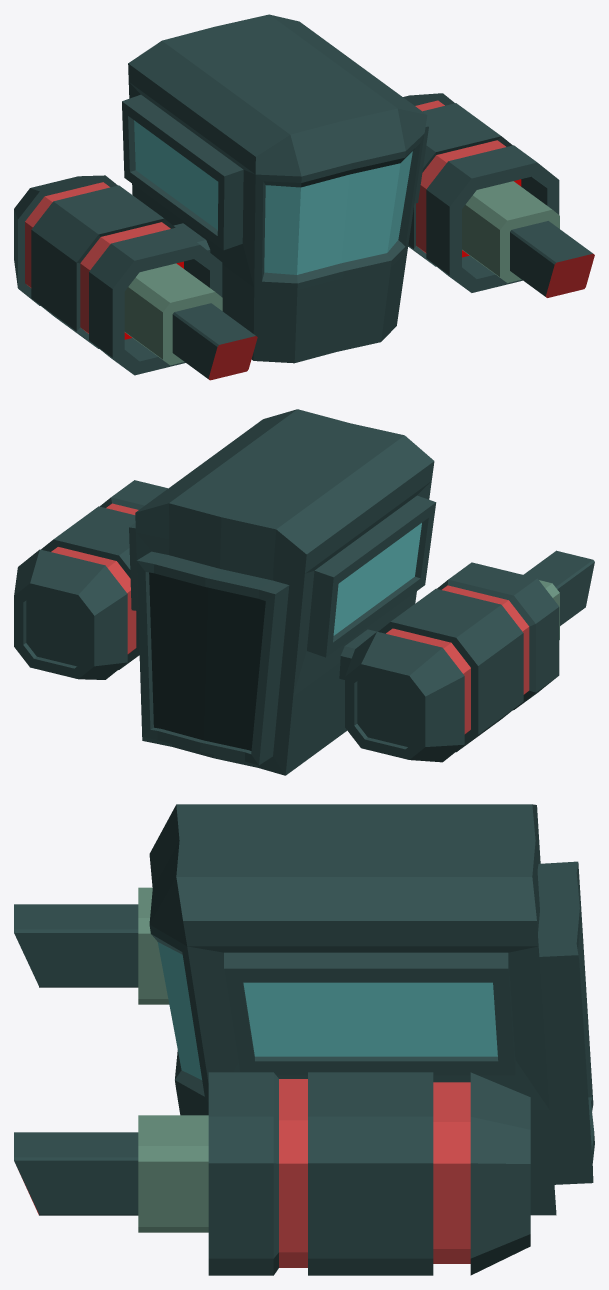
File: EMCabeza.obj
3 views of the same model, one above another, from view 1: azimuth 30°, elevation 25°; view 2: azimuth 150°, elevation 25°; view 3: azimuth 270°, elevation 25° (orthographic). The views are drawn at different scales.
Parts seen in each view (by area): view 1: Cube.028, Cube.034; view 2: Cube.028, Cube.034, Cube.035; view 3: Cube.028, Cube.034.
Boxes of the visible parts, x1,y1,x2,y2 form: Cube.028: [122, 14, 428, 363]; Cube.034: [14, 93, 594, 380]; Cube.028: [129, 409, 436, 775]; Cube.034: [14, 480, 594, 762]; Cube.035: [339, 629, 376, 679]; Cube.028: [149, 804, 594, 1215]; Cube.034: [14, 887, 530, 1275].
Size of the model in its own units: 8.15 by 4.11 by 6.63.
